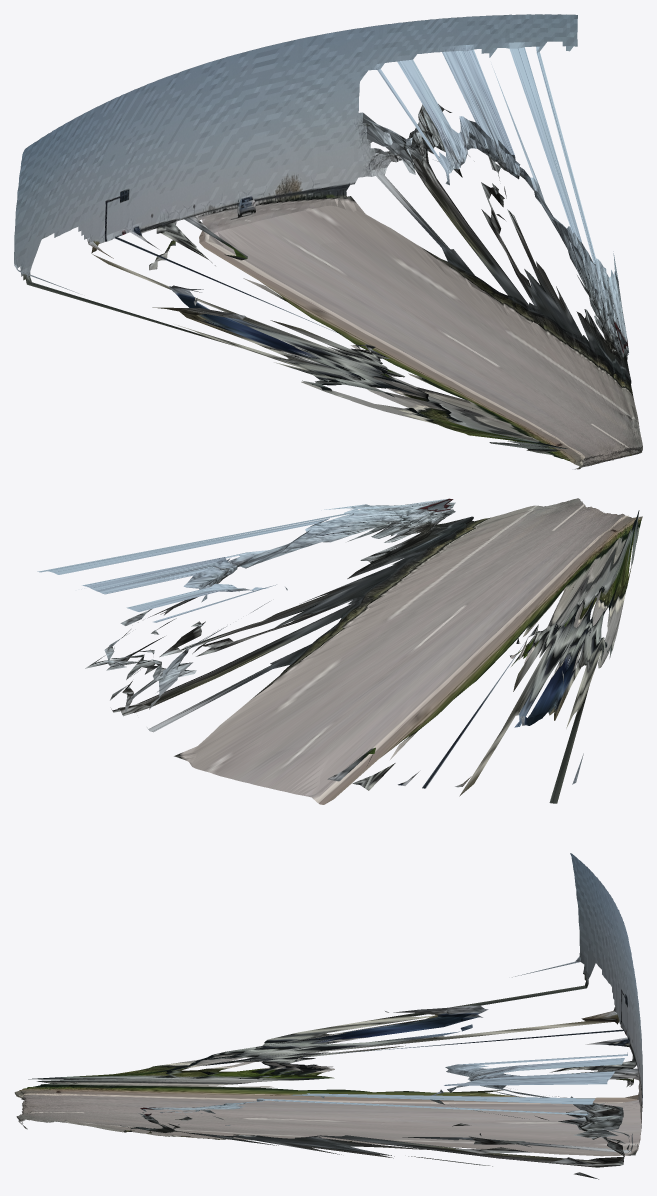
3 renders of one model, top to bottom at view 1: azimuth 30°, elevation 25°; view 2: azimuth 150°, elevation 25°; view 3: azimuth 270°, elevation 25°, orthographic. The views are drawn at different scales.
Parts seen in each view (by area): view 1: defaultobject; view 2: defaultobject; view 3: defaultobject.
Part boxes in pixels (x1,y1,x2,y2): defaultobject: (14,14,642,469); defaultobject: (37,498,642,804); defaultobject: (14,853,642,1179).
Bounding box in the file's own units: 41 × 13.54 × 44.59.
Materials: 1 (1 with a texture image).
